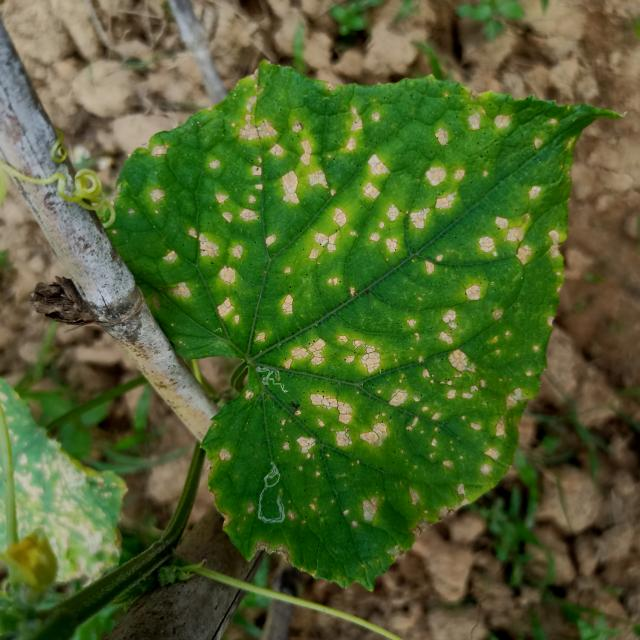disease_cucumber: (156, 80, 552, 539)
